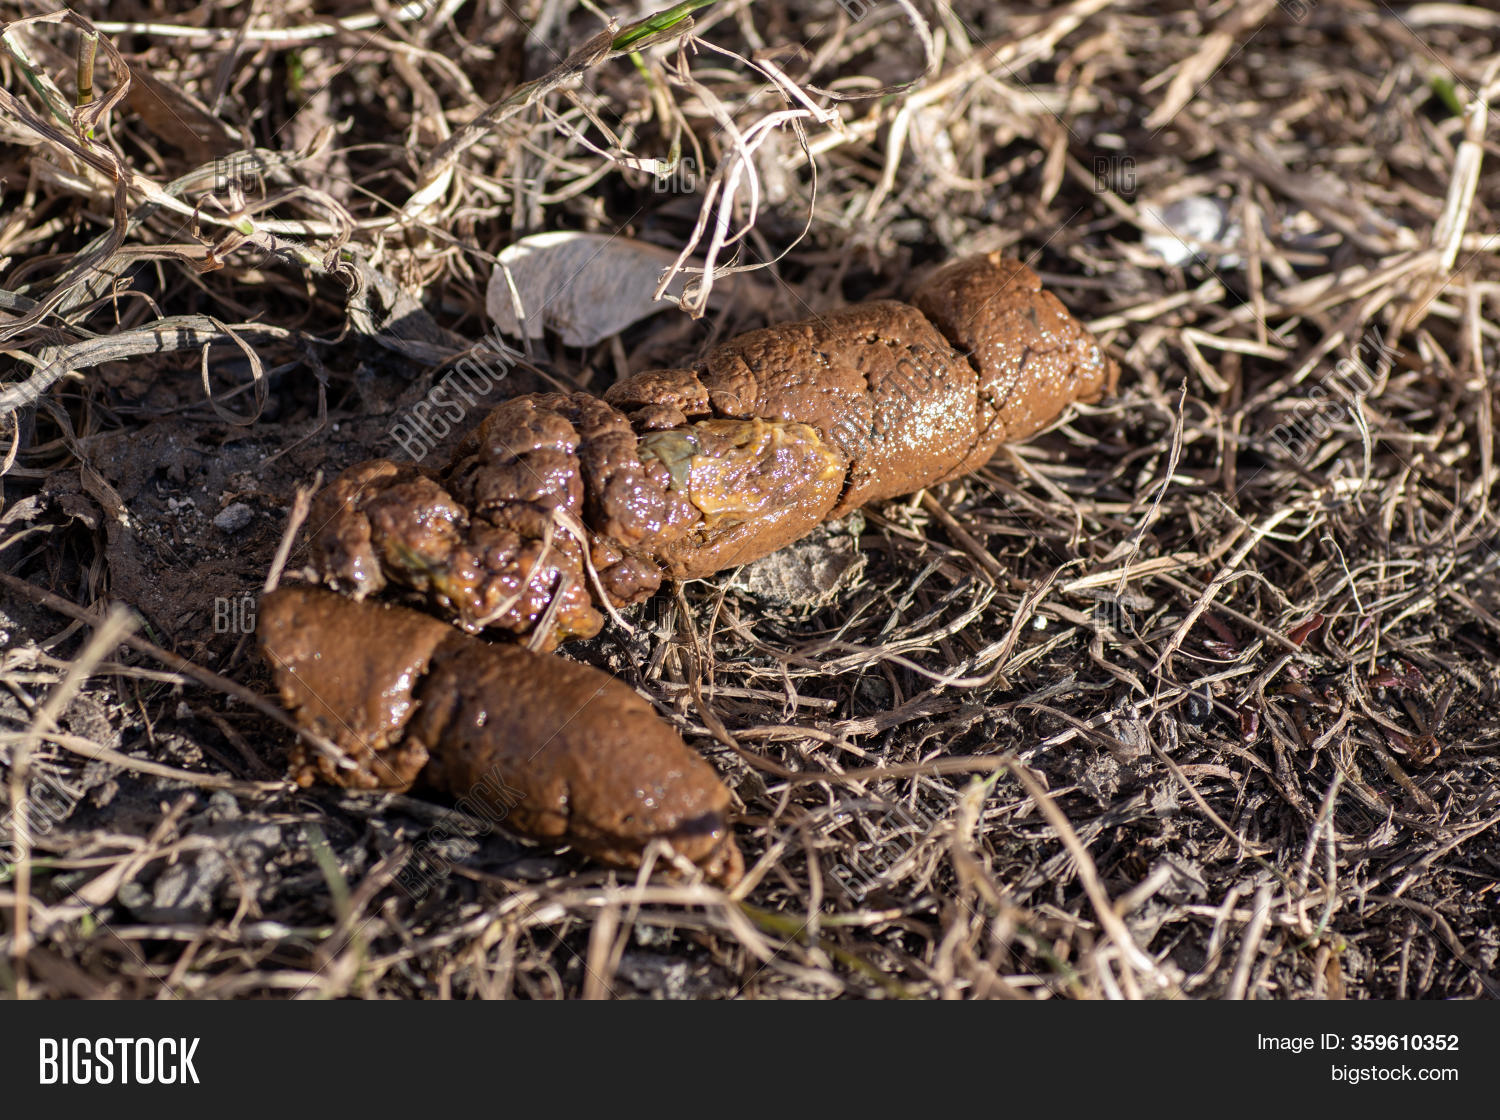Dog: (278, 391, 756, 841), (760, 267, 1073, 533)
